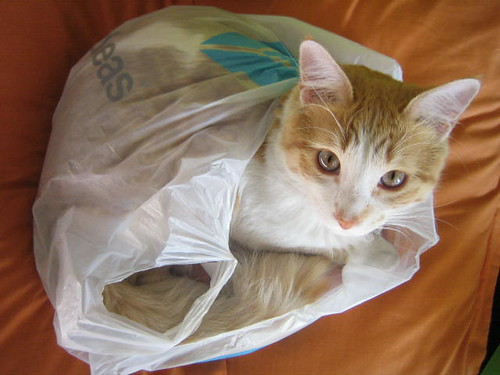plastic bag: (30, 6, 441, 375)
